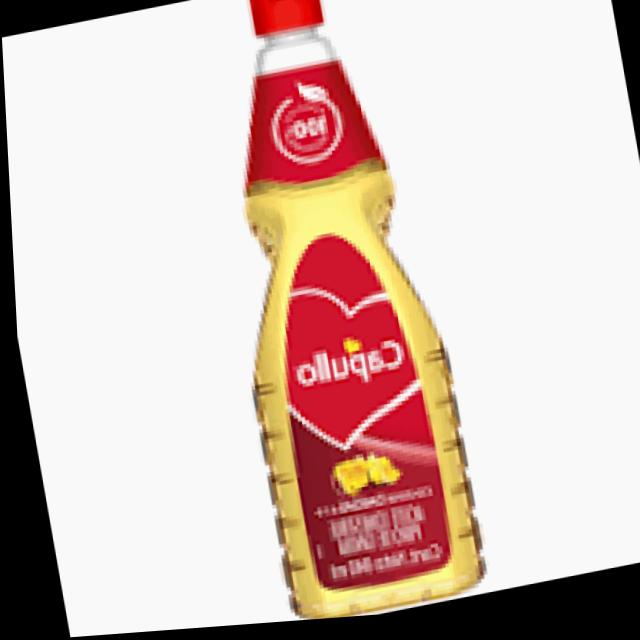Botella: (167, 0, 504, 628)
